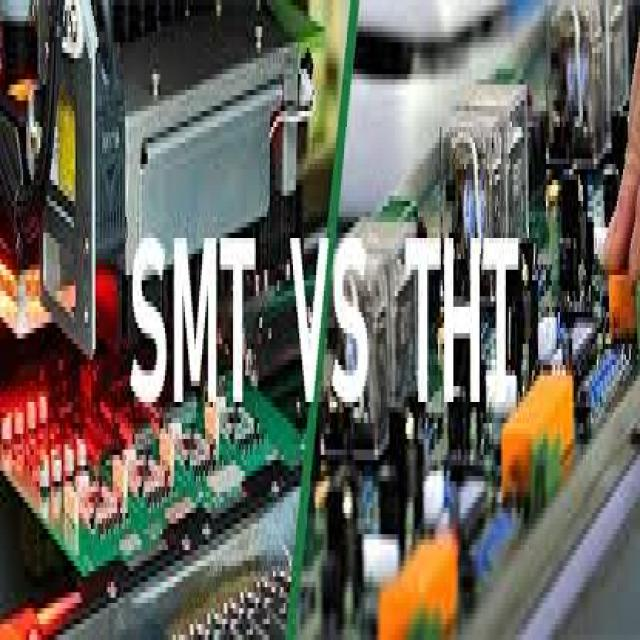pcb: (0, 0, 359, 634), (34, 0, 321, 381), (324, 80, 537, 466), (440, 74, 530, 407), (322, 206, 424, 455), (37, 0, 99, 360), (0, 0, 51, 259), (543, 0, 611, 169)
